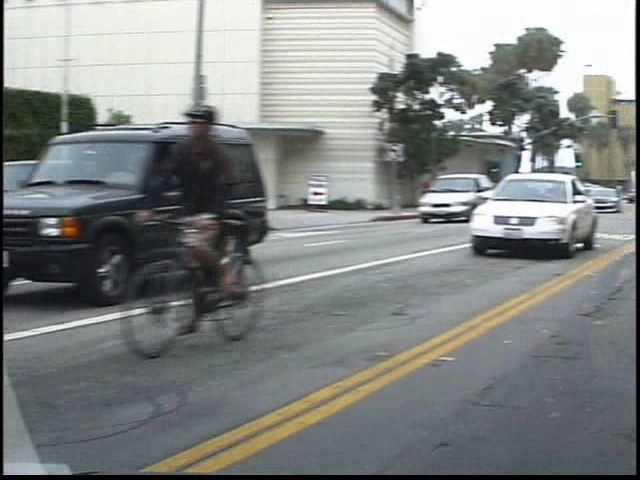person: (173, 97, 282, 338), (436, 172, 456, 211)
